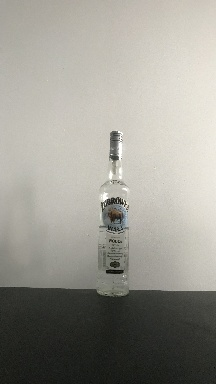butelka: (95, 128, 130, 298)
